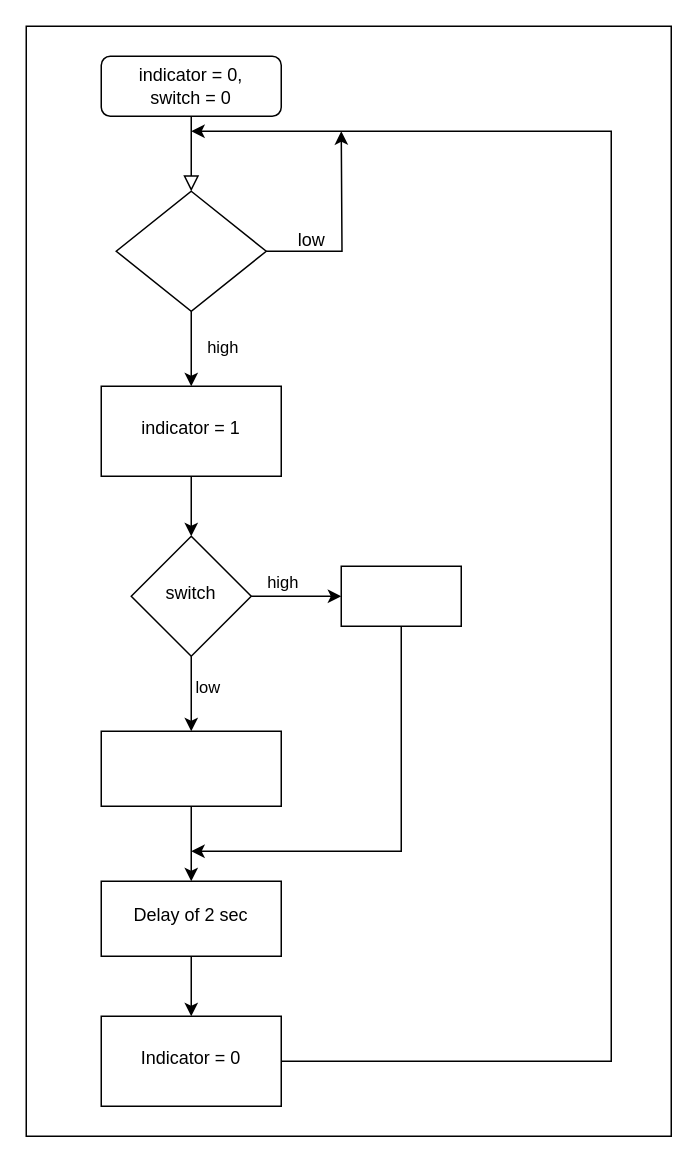
Some shapes in this 698 by 1163 pixel diagram are drawn without their labels. Here are the shapes that lost their labels. From the top down, the box of each, then its label:
(115, 190, 266, 311): sensor input
(340, 565, 461, 626): switch = 0
(100, 730, 281, 806): switch = 1
